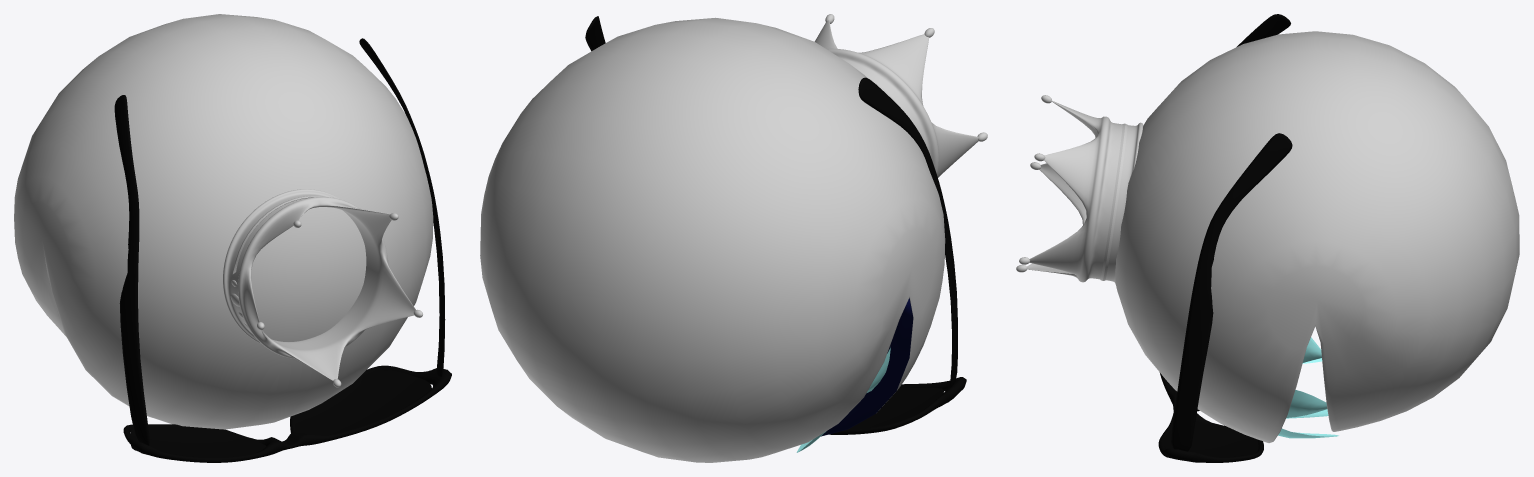
File: pacman.obj
The picture shows the model from 3 angles, left to right: view 1: azimuth 30°, elevation 25°; view 2: azimuth 150°, elevation 25°; view 3: azimuth 270°, elevation 25°; orthographic projection. The views are drawn at different scales.
Parts seen in each view (by area): view 1: obj1, obj2; view 2: obj1, obj2; view 3: obj1, obj2.
Part boxes in pixels (x1,y1,x2,y2): obj1: [14, 14, 451, 462]; obj2: [223, 189, 422, 387]; obj1: [480, 16, 966, 462]; obj2: [814, 14, 987, 177]; obj1: [1115, 14, 1519, 462]; obj2: [1016, 95, 1143, 283].
Bounding box in the file's own units: 1.92 × 1.89 × 2.32.
